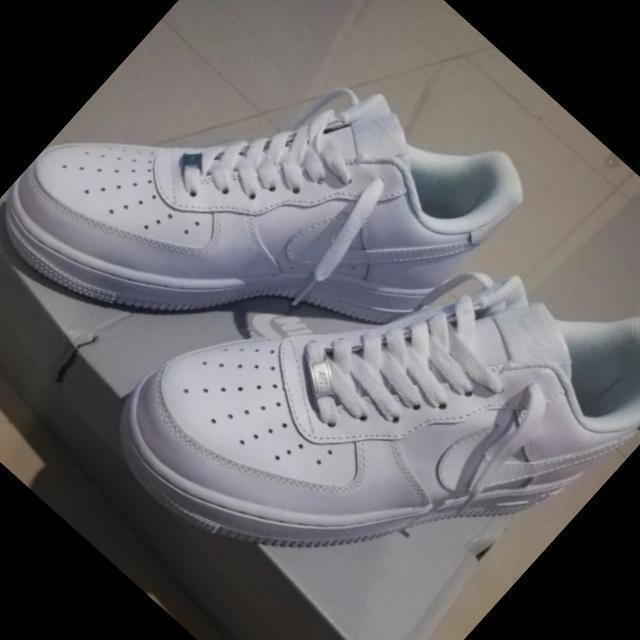nike original air force: (86, 93, 640, 640), (0, 0, 540, 484)
